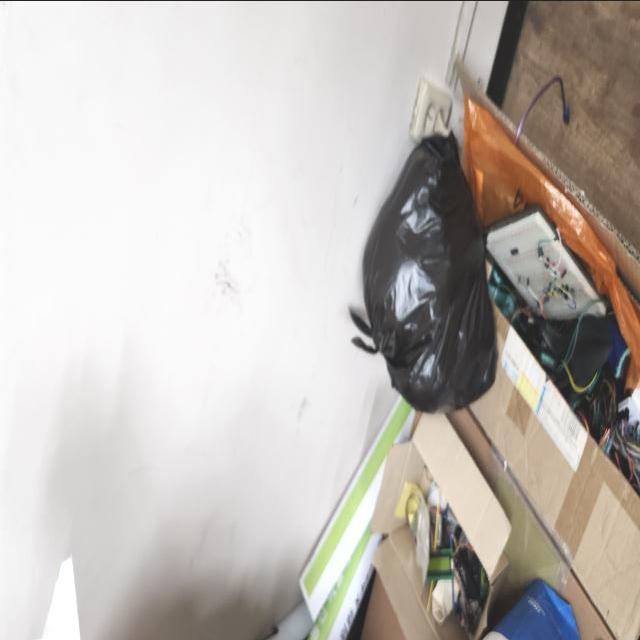black_bag: (348, 134, 496, 415)
